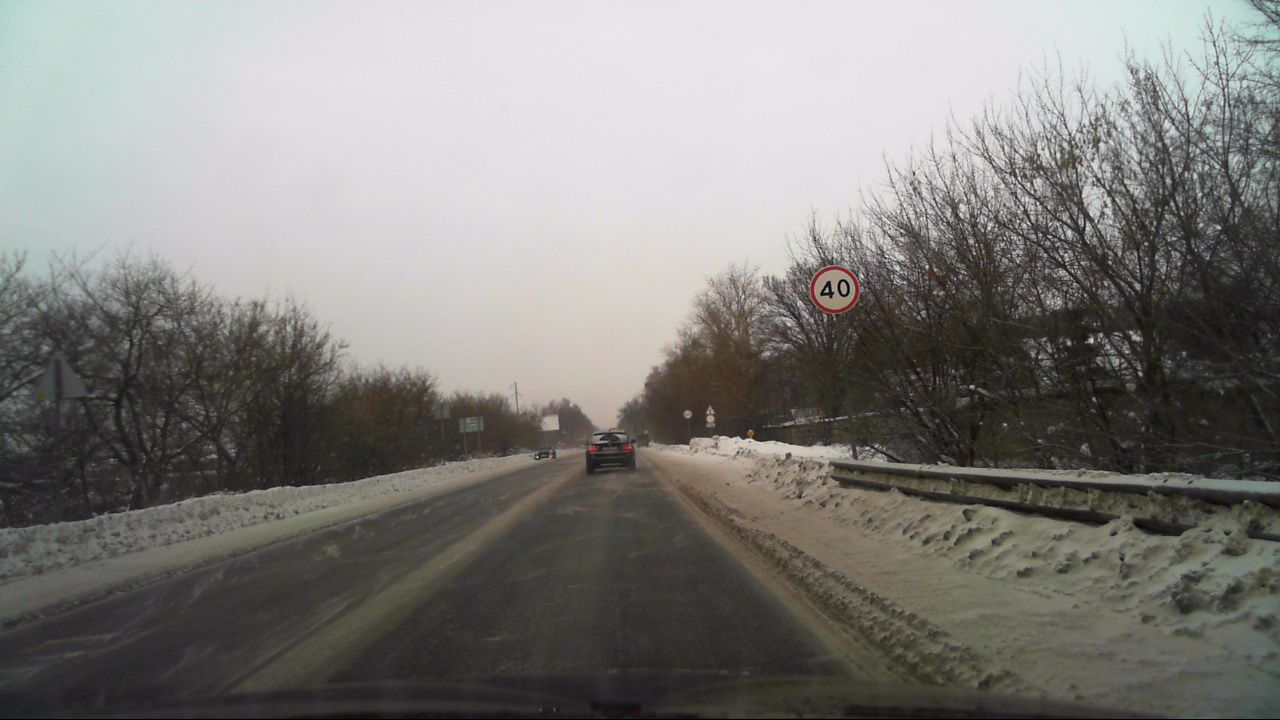speed_warning_40: (810, 265, 859, 313)
